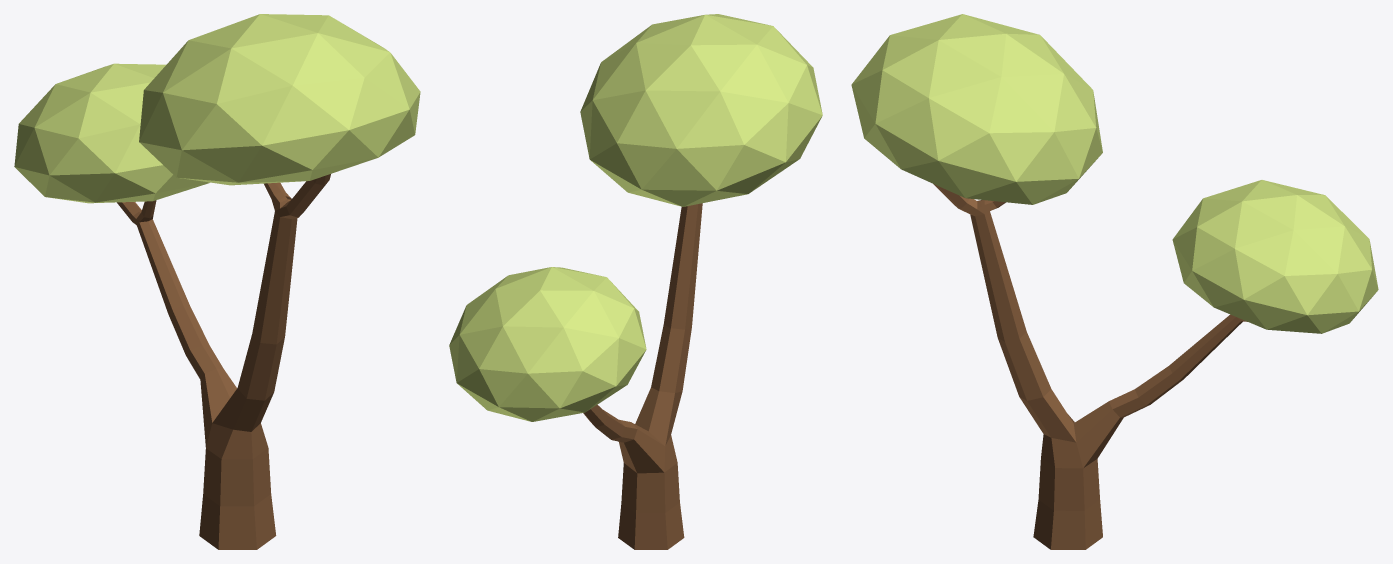
Rendered from broadleaf.glb.
3 views of the same model, side by side, from view 1: azimuth 30°, elevation 25°; view 2: azimuth 150°, elevation 25°; view 3: azimuth 270°, elevation 25° (orthographic). The views are drawn at different scales.
Visible parts, largest first — view 1: Tree2; view 2: Tree2; view 3: Tree2.
Boxes of the visible parts, x1,y1,x2,y2 form: Tree2: (14,14,420,549); Tree2: (449,14,822,549); Tree2: (851,14,1378,549).
Size of the model in its own units: 2.32 by 5.13 by 4.89.
